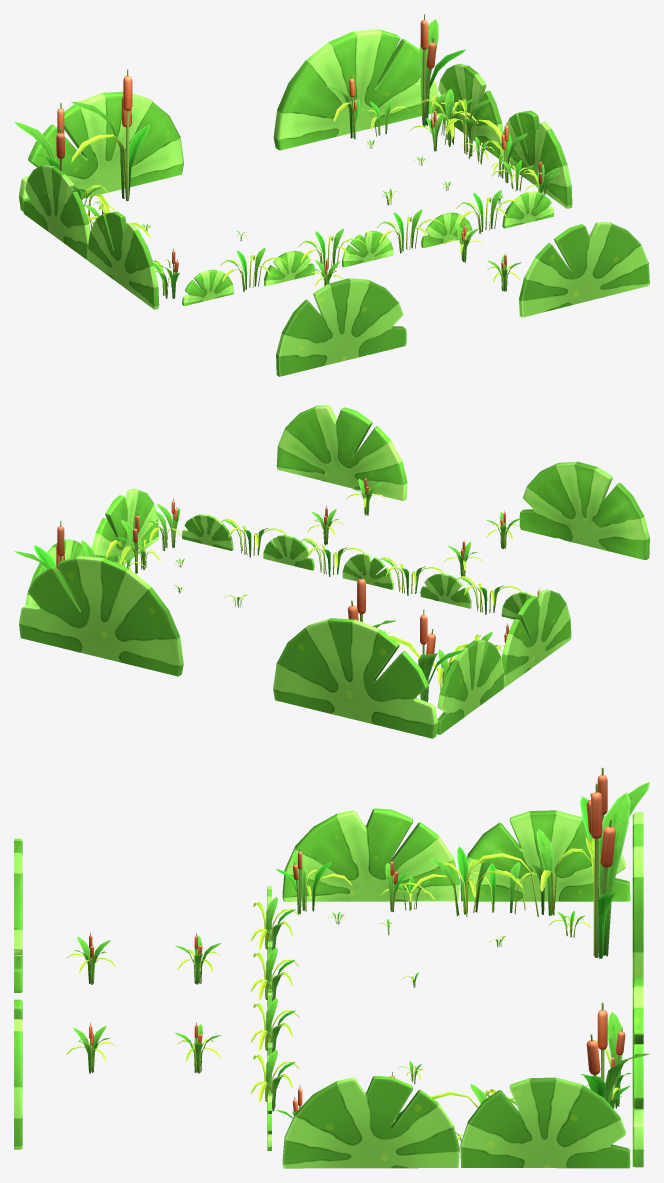
File: obj_grass.gltf
The picture shows the model from 3 angles, top to bottom: view 1: azimuth 30°, elevation 25°; view 2: azimuth 150°, elevation 25°; view 3: azimuth 270°, elevation 25°; orthographic projection. The views are drawn at different scales.
Parts seen in each view (by area): view 1: obj_grass; view 2: obj_grass; view 3: obj_grass.
Part boxes in pixels (left/top/right/bottom): obj_grass: left=14, top=14, right=649, bottom=376; obj_grass: left=14, top=405, right=649, bottom=738; obj_grass: left=14, top=767, right=649, bottom=1168.
Size of what is drawn, in the model's own units: 15.86 by 4.69 by 15.27.
Materials: 1 (1 with a texture image).
